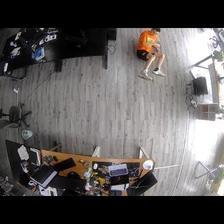fall: (135, 28, 166, 80)
